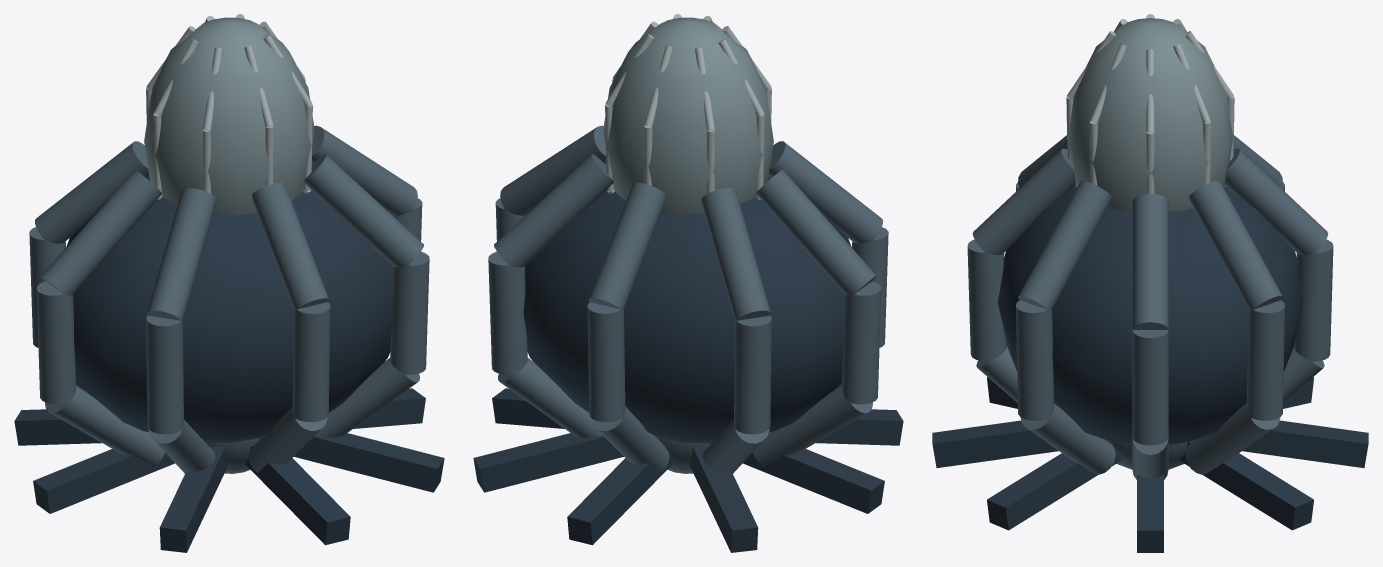
File: CMU3DHiveHiveEggMorpherXenoConstructionNode.glb
The picture shows the model from 3 angles, left to right: view 1: azimuth 30°, elevation 25°; view 2: azimuth 150°, elevation 25°; view 3: azimuth 270°, elevation 25°; orthographic projection.
Visible parts, largest first — view 1: raised curved organ rib (×16), complete organ body, closed ovoid shell, anchoring root (×6), construction bud, raised shell ridge; view 2: raised curved organ rib (×16), complete organ body, closed ovoid shell, anchoring root (×6), construction bud, raised shell ridge; view 3: raised curved organ rib (×17), complete organ body, closed ovoid shell, anchoring root (×5), construction bud, raised shell ridge.
Boxes of the visible parts, bbox=[...] form: raised curved organ rib (×16): bbox=[29, 125, 429, 473]; complete organ body: bbox=[66, 176, 394, 443]; closed ovoid shell: bbox=[144, 17, 314, 215]; anchoring root (×6): bbox=[14, 388, 444, 552]; construction bud: bbox=[207, 438, 260, 473]; raised shell ridge: bbox=[203, 47, 222, 130]; raised curved organ rib (×16): bbox=[488, 125, 888, 473]; complete organ body: bbox=[523, 176, 851, 443]; closed ovoid shell: bbox=[603, 17, 773, 215]; anchoring root (×6): bbox=[473, 388, 903, 552]; construction bud: bbox=[657, 438, 710, 473]; raised shell ridge: bbox=[695, 47, 714, 130]; raised curved organ rib (×17): bbox=[967, 135, 1333, 479]; complete organ body: bbox=[997, 186, 1303, 445]; closed ovoid shell: bbox=[1067, 18, 1233, 211]; anchoring root (×5): bbox=[932, 420, 1368, 552]; construction bud: bbox=[1113, 442, 1187, 469]; raised shell ridge: bbox=[1146, 49, 1154, 132].
Size of the model in its own units: 0.9124 by 1.02 by 0.9085.
